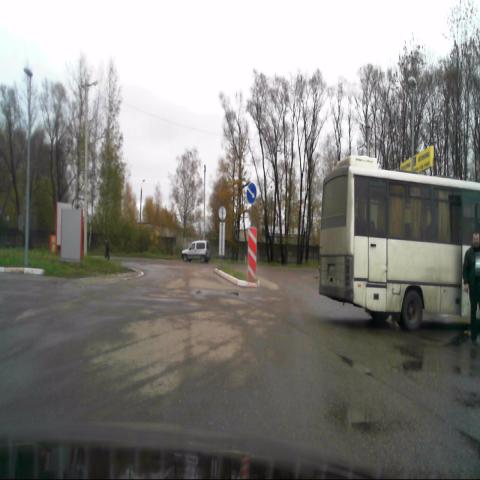4_2_1: (246, 182, 257, 205)
